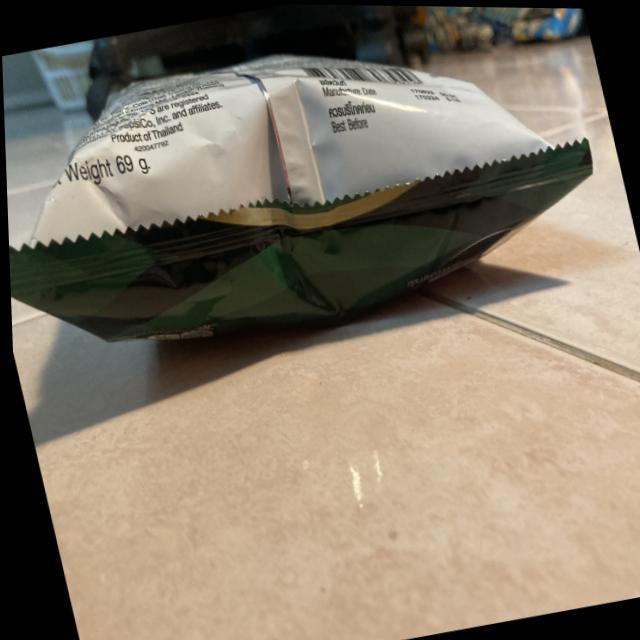Laygreen: (0, 0, 624, 378)
